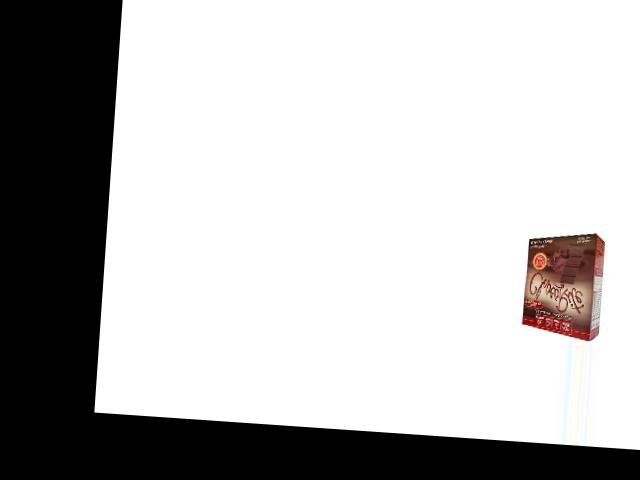chocolate: (519, 228, 605, 339)
